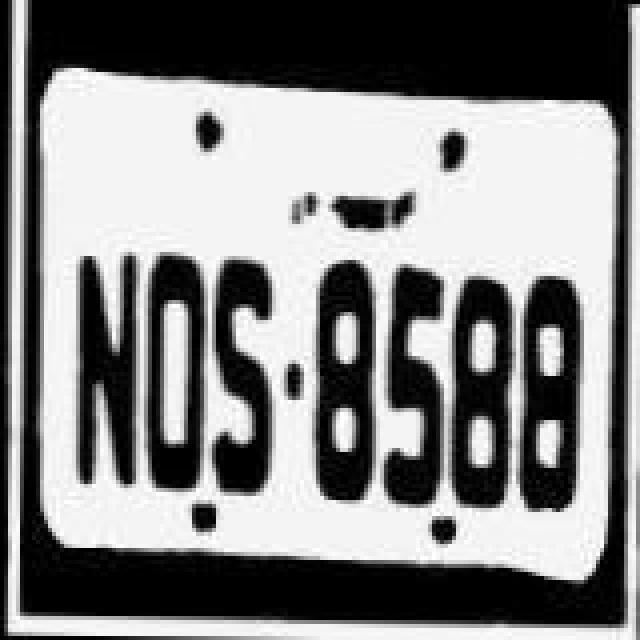5: (374, 252, 450, 512)
8: (300, 246, 384, 506), (512, 254, 592, 522), (442, 244, 518, 512)
N: (56, 242, 148, 502)
O: (136, 242, 212, 498)
S: (204, 248, 288, 500)
